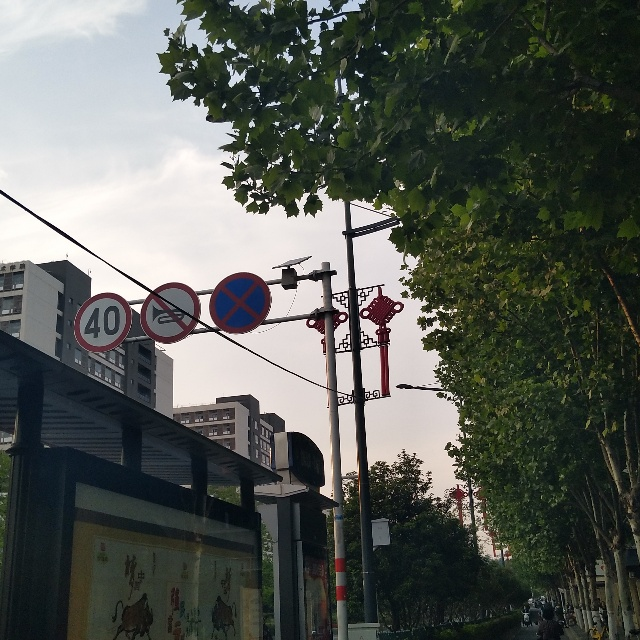nohonk: (140, 282, 201, 344)
stop: (209, 272, 272, 334)
